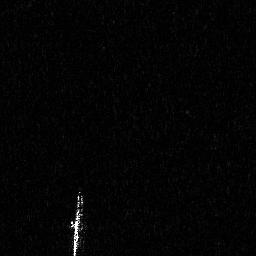ship: (68, 187, 88, 256)
